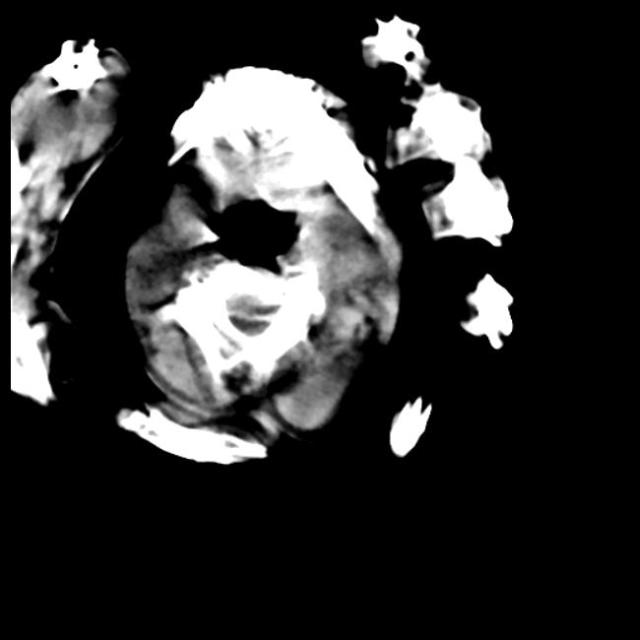lesion: (7, 10, 524, 472)
